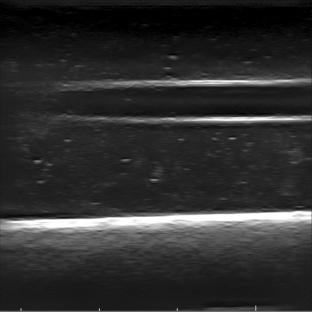vessel: (44, 76, 311, 128)
